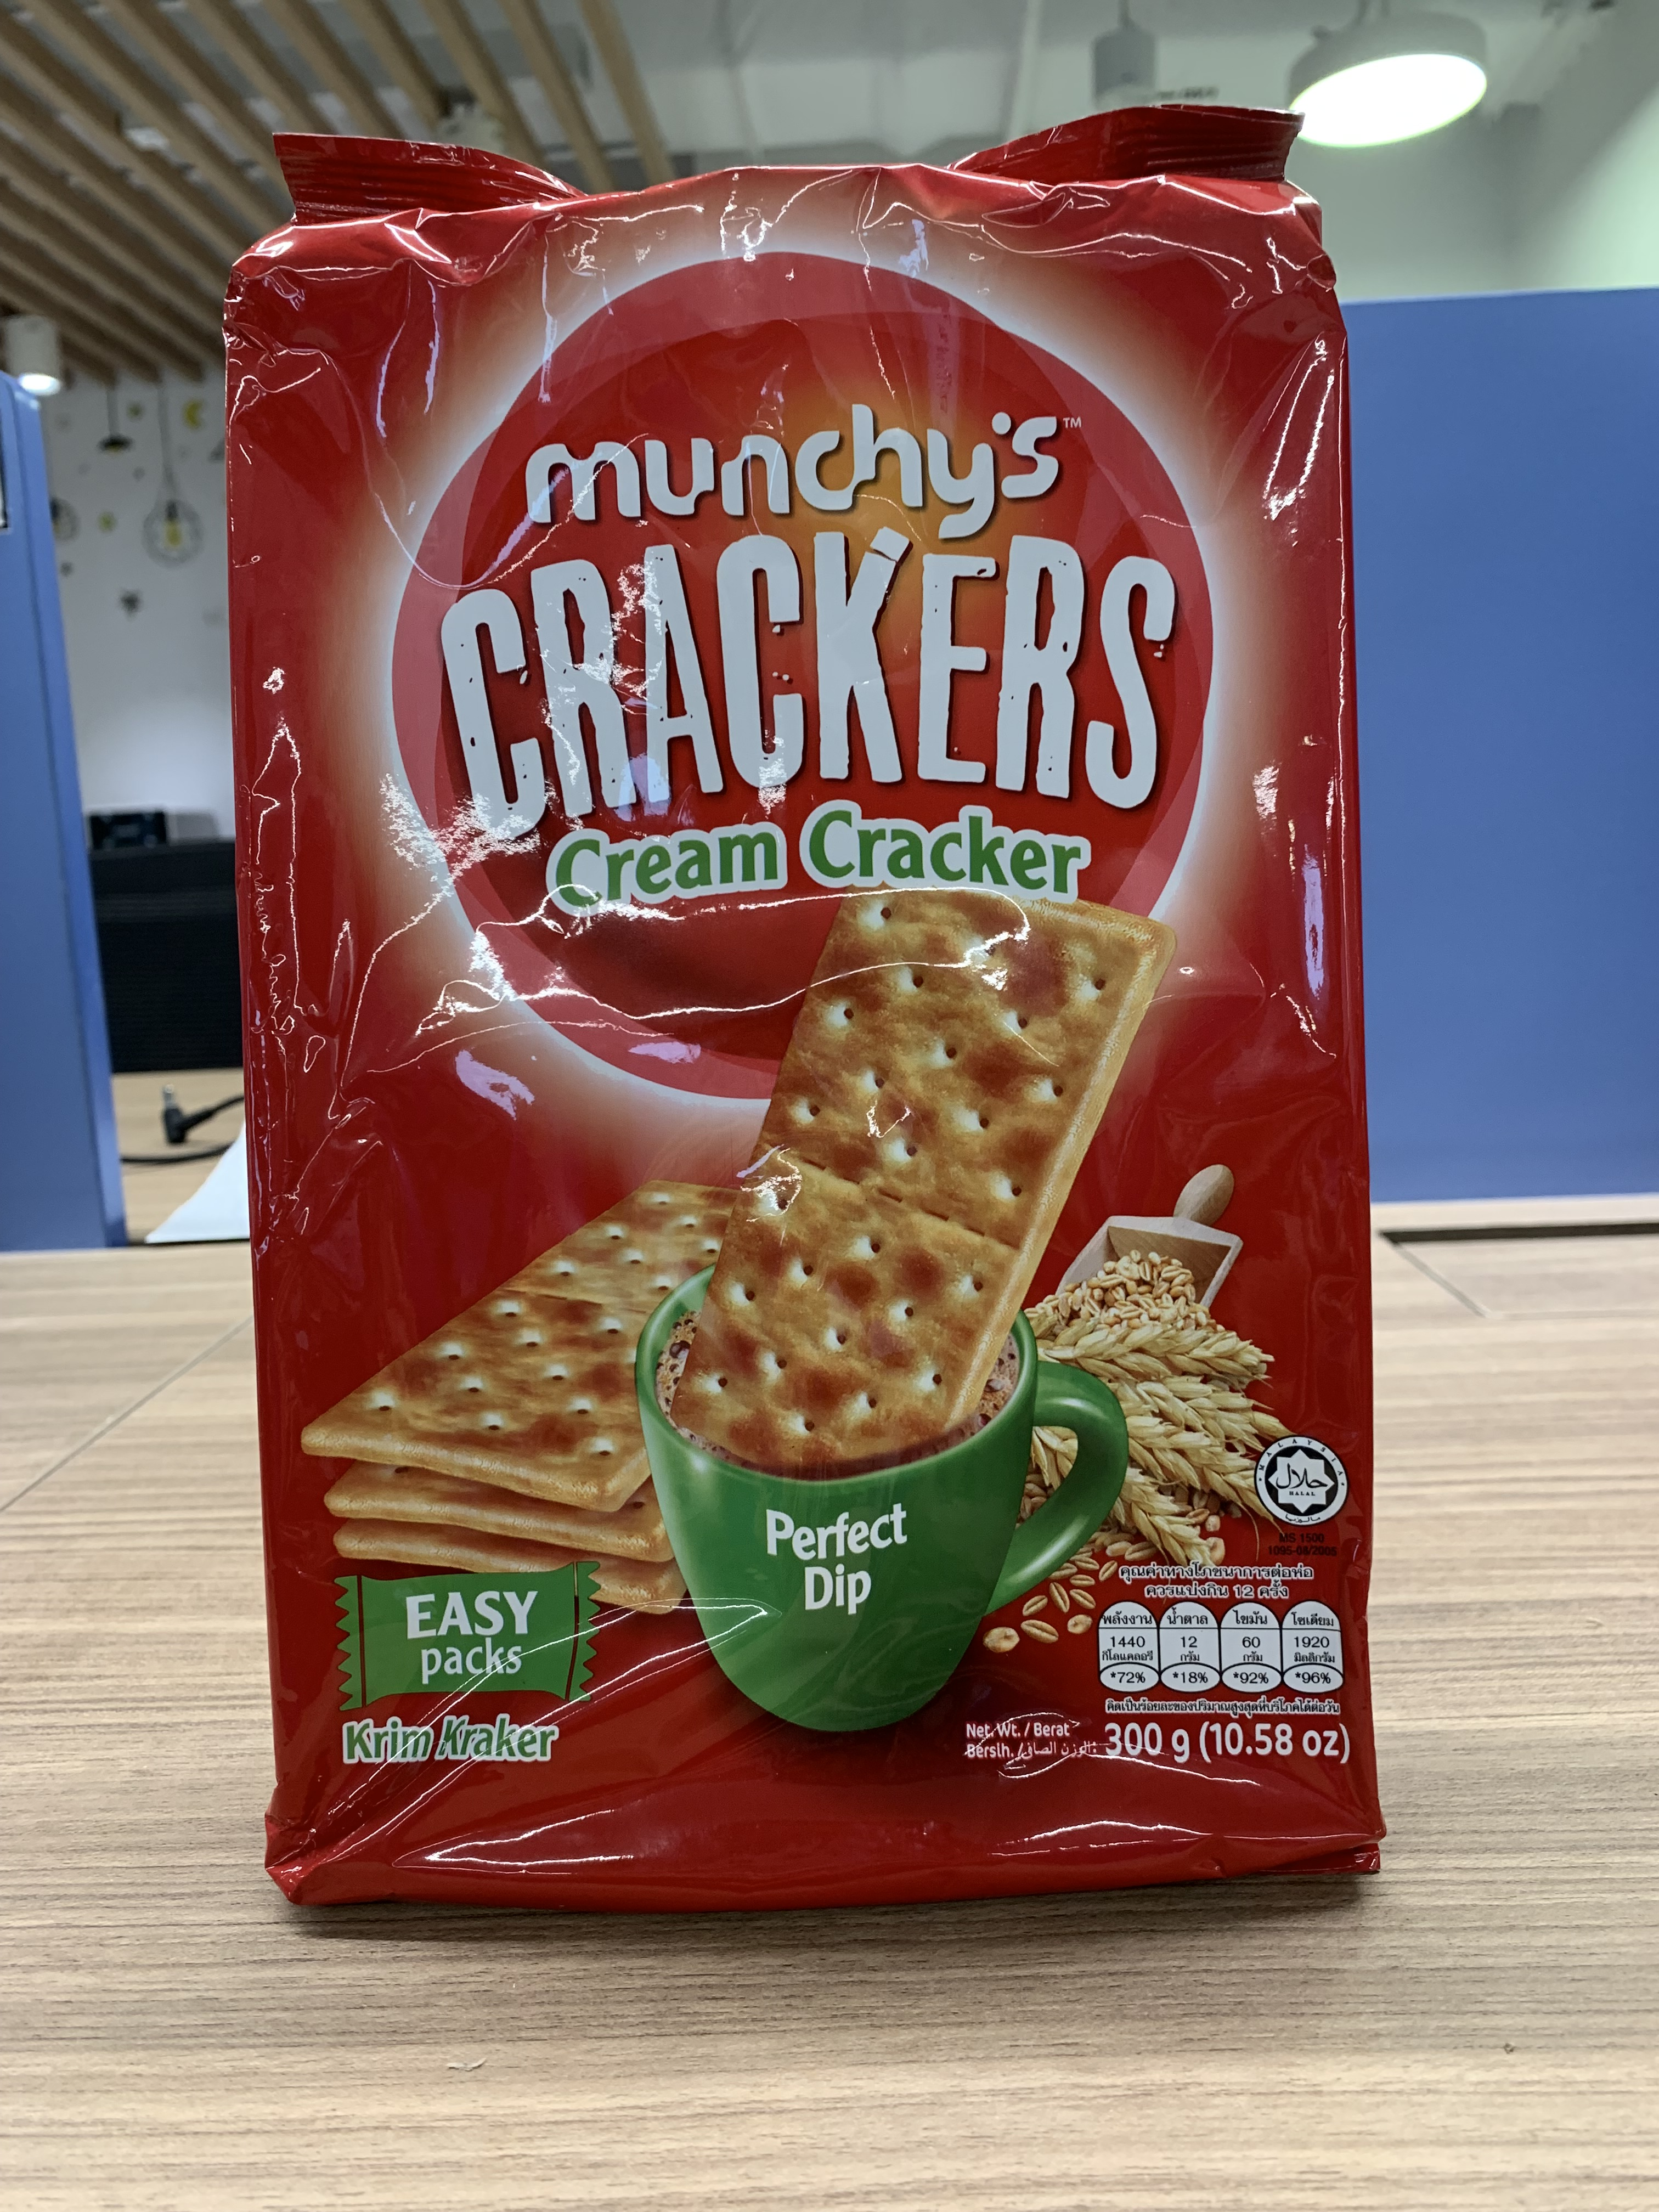crackers: (204, 75, 1408, 1921)
